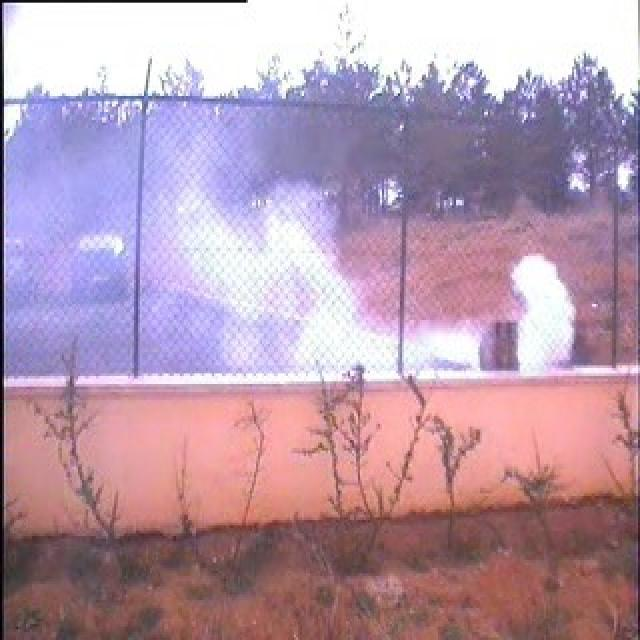Smoke: (168, 182, 576, 374)
